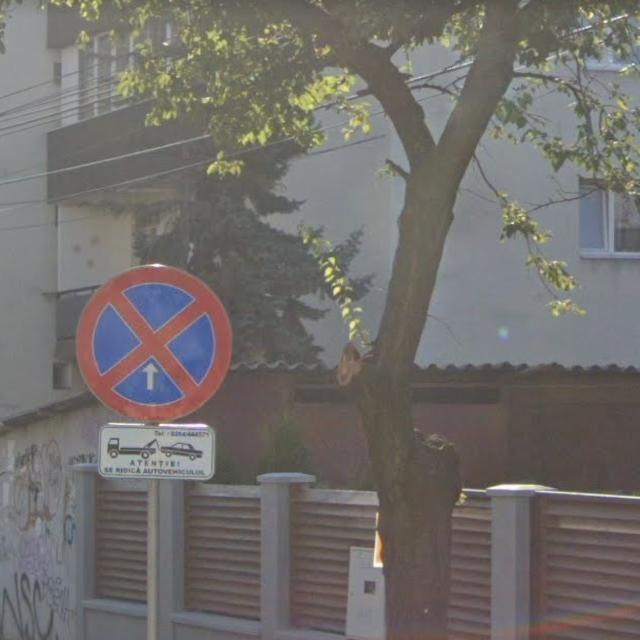forb_waiting: (74, 265, 230, 422)
